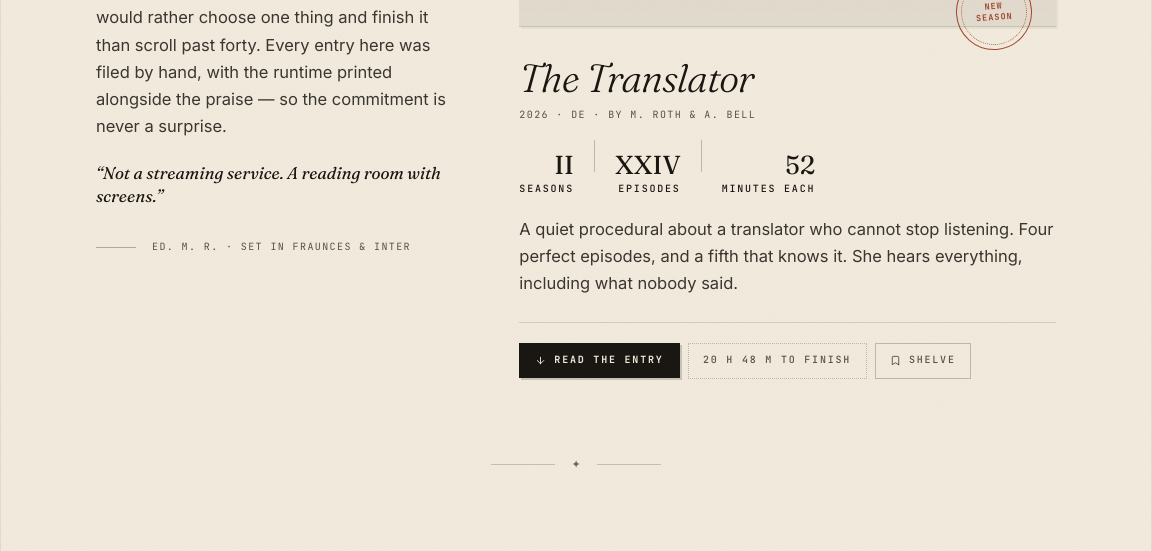
Test: Cabinet › raises the clock once a title is shelved, and moves it as episodes are logged
The width and height of the screenshot is (1152, 551).
(page scrolled)
Expected: the heading "The Translator" is shown, [519,58,756,99]
Click the button "Shelve".
click(923, 361)  # box [874,342,971,379]
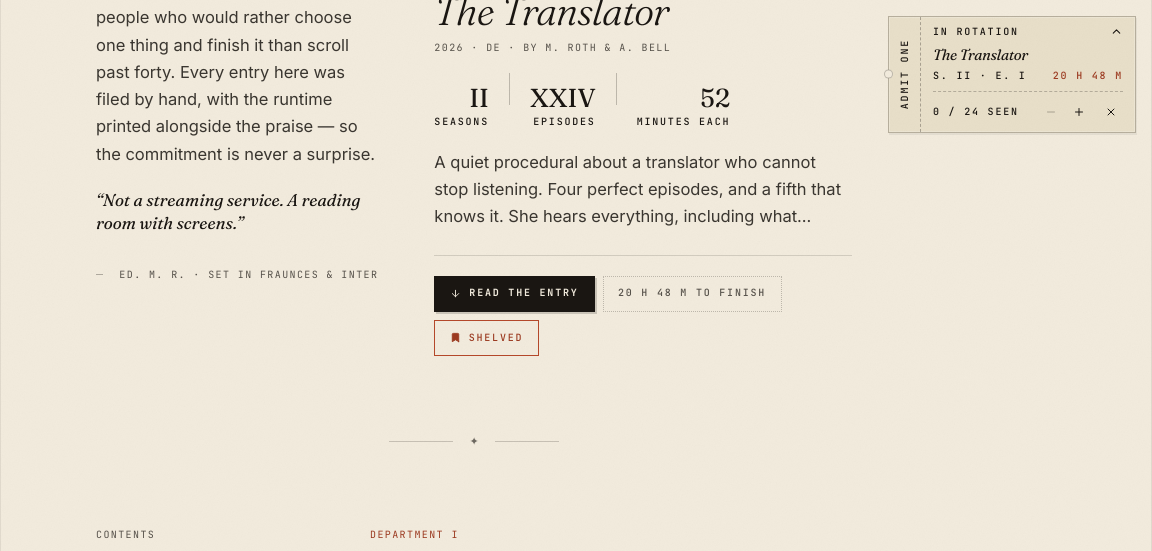
Now the element named "Now in rotation" shows "The Translator", box [933,45,1028,64]
Now the element named "Now in rotation" shows "20 h 48 m", box [1053,69,1123,82]
Now the element named "Now in rotation" shows "0 / 24 seen", box [888,16,1136,133]
Click the button named "Log one more episode of The Translator".
click(1079, 112)  # box [1067,100,1091,124]
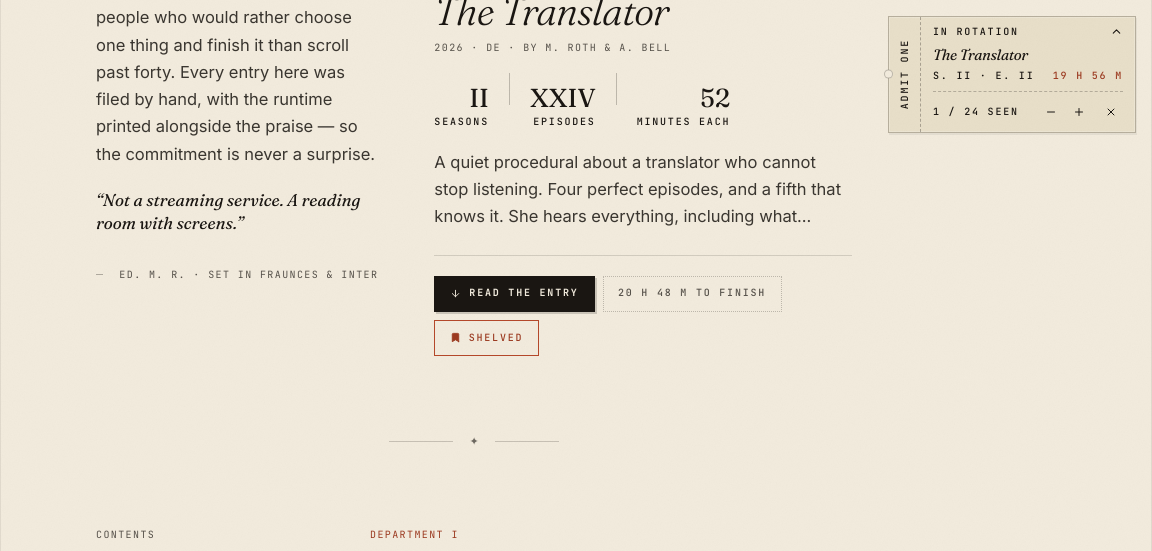
Now the element named "Now in rotation" shows "1 / 24 seen", box [888,16,1136,133]
Now the element named "Now in rotation" shows "19 h 56 m", box [1053,69,1123,82]
Now the element named "Now in rotation" shows "E. II", box [888,16,1136,133]
